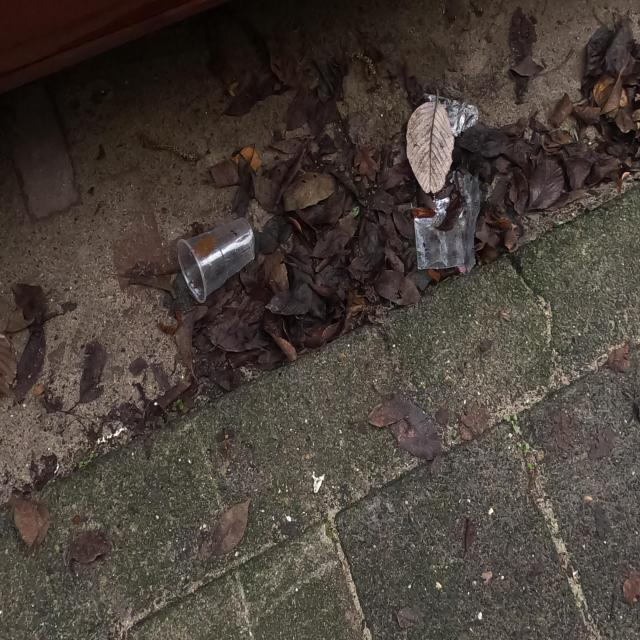Cup: (170, 217, 260, 302)
